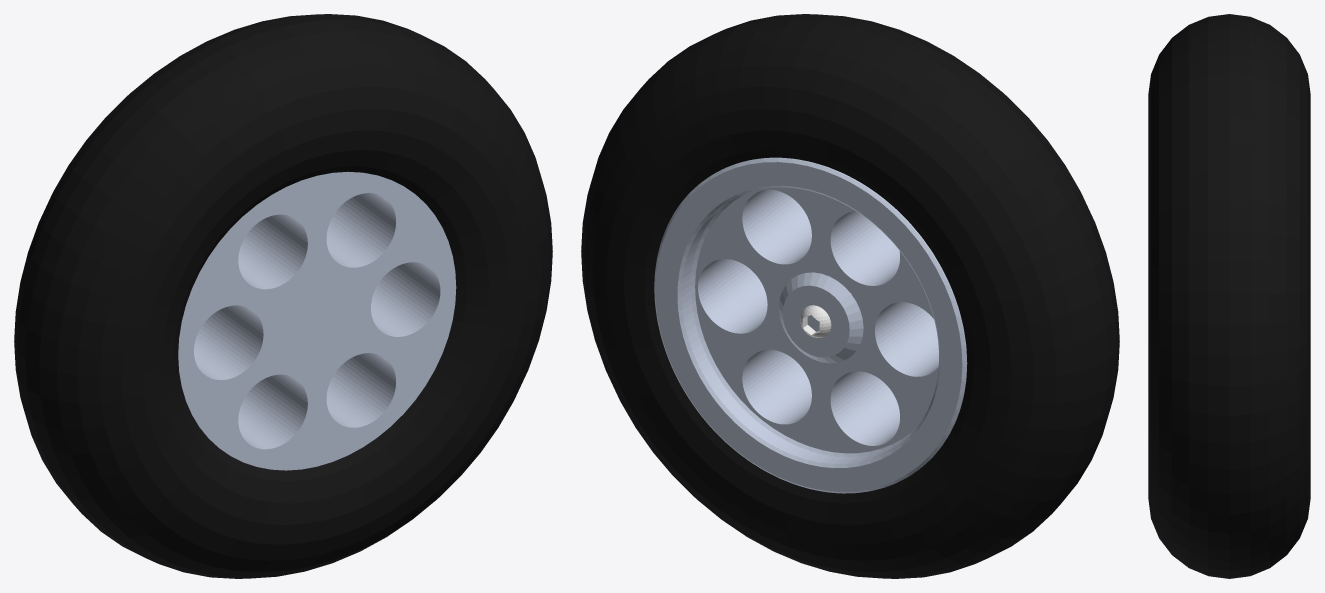
File: arlo_wheel_mejorado.dae
3 renders of one model, left to right at view 1: azimuth 30°, elevation 25°; view 2: azimuth 150°, elevation 25°; view 3: azimuth 270°, elevation 25°, orthographic. The views are drawn at different scales.
Visible parts, largest first — view 1: caucho, rim_principal; view 2: caucho, rim_principal, rim_centro, tornillo; view 3: caucho.
Part boxes in pixels (bbox=[...]): caucho: bbox=[14, 14, 552, 578]; rim_principal: bbox=[178, 171, 456, 470]; caucho: bbox=[581, 14, 1119, 578]; rim_principal: bbox=[654, 157, 967, 493]; rim_centro: bbox=[779, 272, 863, 363]; tornillo: bbox=[800, 305, 831, 337]; caucho: bbox=[1148, 14, 1310, 578].
Bounding box in the file's own units: 19.01 × 5.47 × 19.01.
